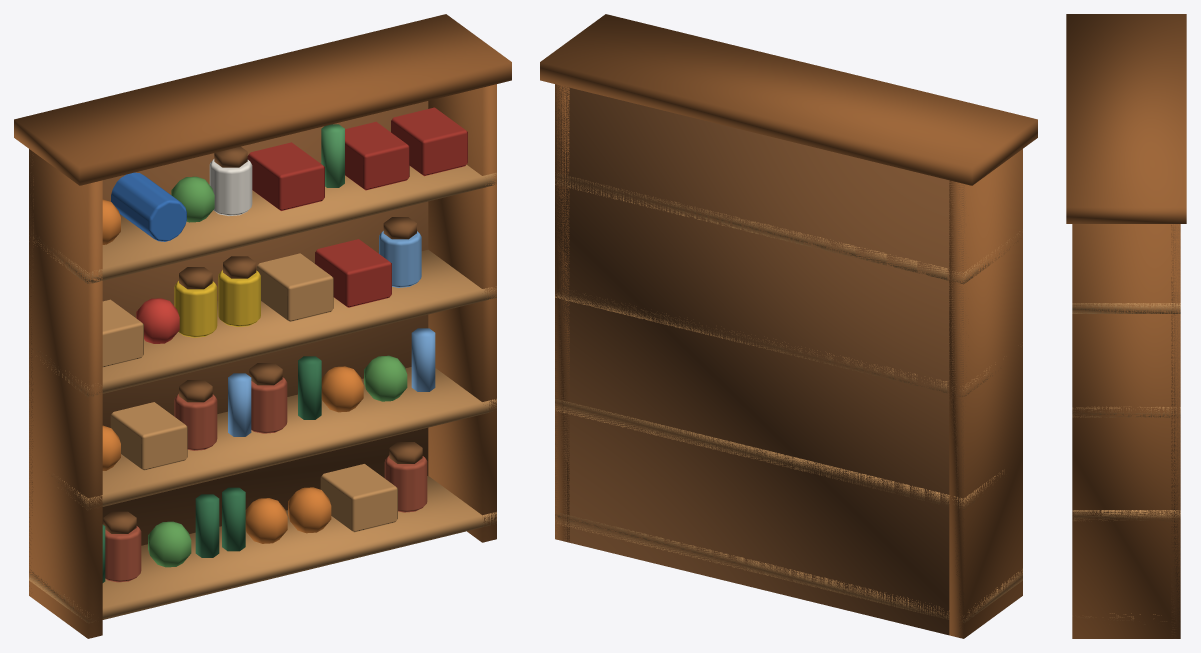
The model's file is counter_shelf.glb.
3 views of the same model, side by side, from view 1: azimuth 30°, elevation 25°; view 2: azimuth 150°, elevation 25°; view 3: azimuth 270°, elevation 25° (orthographic). The views are drawn at different scales.
Visible parts, largest first — view 1: counter_shelf; view 2: counter_shelf; view 3: counter_shelf.
Boxes of the visible parts, x1,y1,x2,y2 form: counter_shelf: [14, 14, 511, 638]; counter_shelf: [540, 14, 1037, 638]; counter_shelf: [1066, 14, 1186, 638].
Size of the model in its own units: 1.48 by 1.56 by 0.39.
